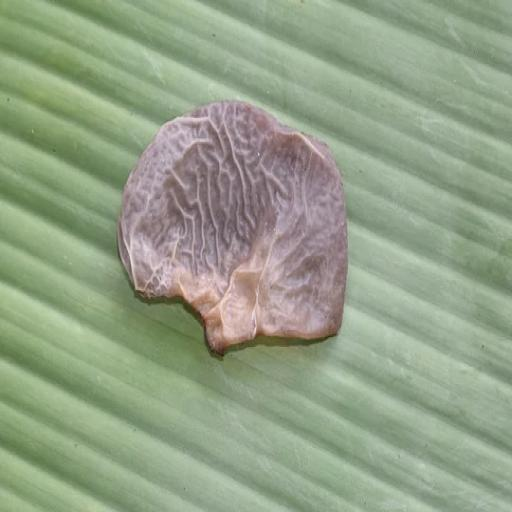mushroom: (108, 89, 351, 362)
